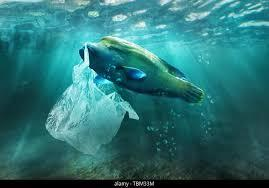Trash: (33, 53, 135, 157)
